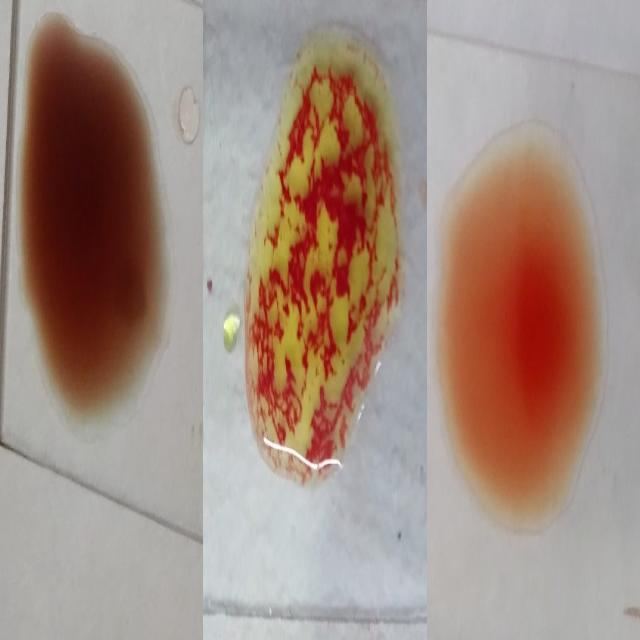B: (251, 35, 392, 494)
